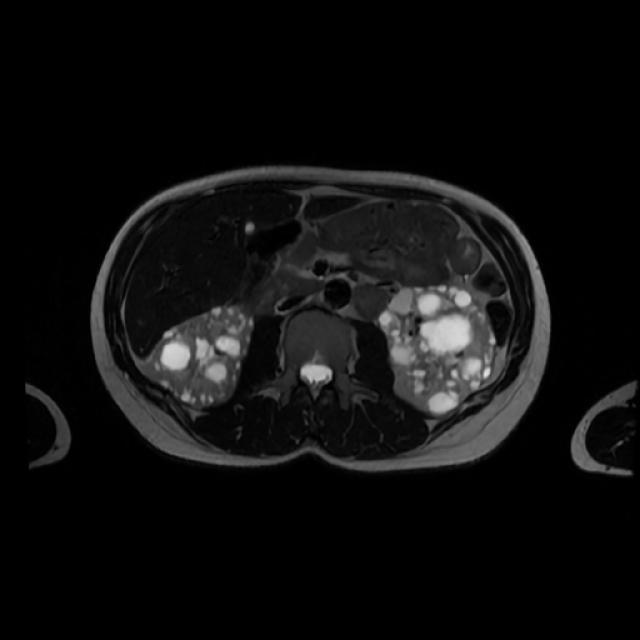sag: (152, 302, 254, 407)
sol: (379, 285, 496, 412)
